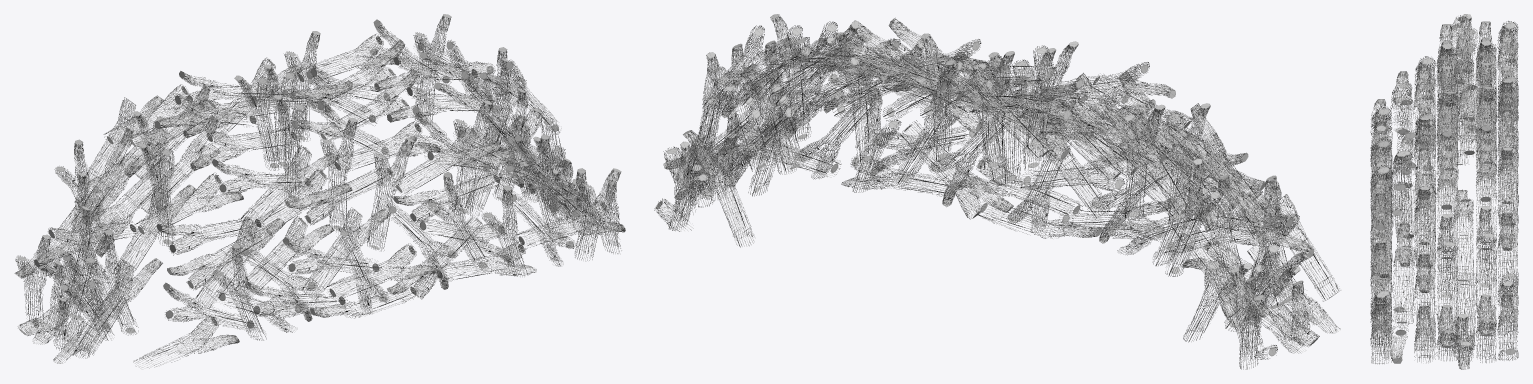
File: Dam.fbx
3 views of the same model, side by side, from view 1: azimuth 30°, elevation 25°; view 2: azimuth 150°, elevation 25°; view 3: azimuth 270°, elevation 25° (orthographic). The views are drawn at different scales.
Parts seen in each view (by area): view 1: sticks; view 2: sticks; view 3: sticks.
Boxes of the visible parts, x1,y1,x2,y2 form: sticks: (14, 14, 625, 369); sticks: (654, 14, 1340, 369); sticks: (1370, 14, 1518, 369).
Bounding box in the file's own units: 8748 × 3324 × 2317.
